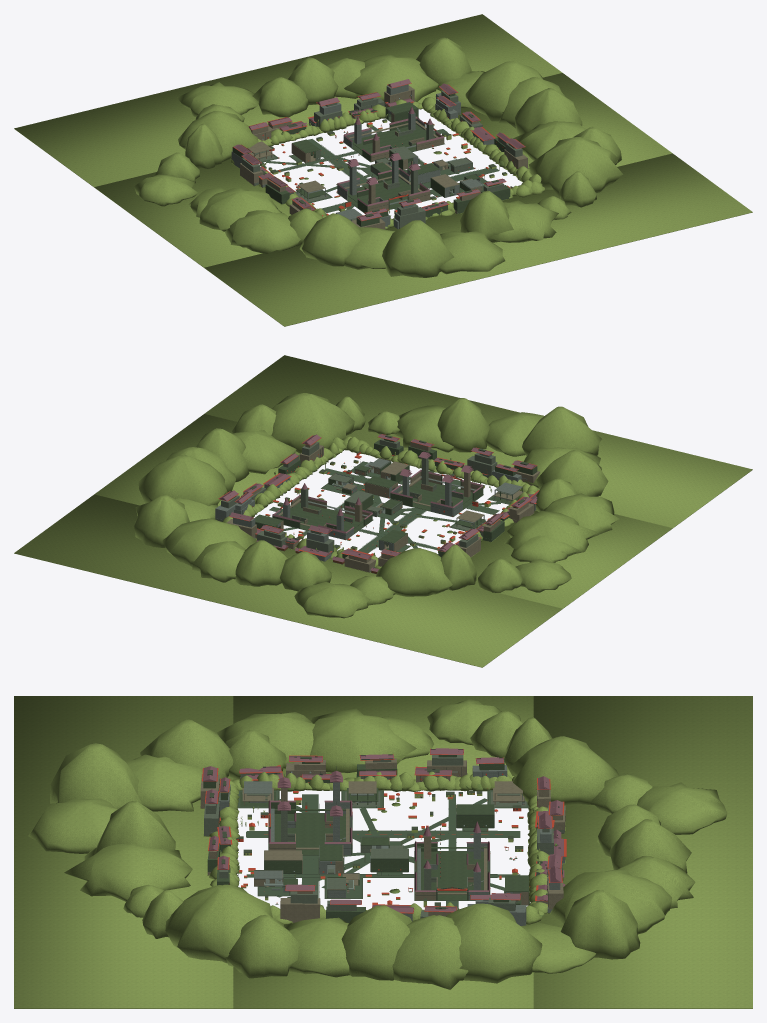
File: chikurin-lod0.glb
3 views of the same model, one above another, from view 1: azimuth 30°, elevation 25°; view 2: azimuth 150°, elevation 25°; view 3: azimuth 270°, elevation 25° (orthographic). The views are drawn at different scales.
Visible parts, largest first — view 1: HB_chikurin_LOD0_terrain, HB_chikurin_LOD0_wall_warm, HB_chikurin_LOD0_wall_weathered, HB_chikurin_LOD0_wall, HB_chikurin_LOD0_roof, HB_chikurin_LOD0_wall_cool, HB_chikurin_LOD0_road, HB_chikurin_LOD0_accent, HB_chikurin_LOD0_LANDMARK_1_wall_weathered, HB_chikurin_LOD0_LANDMARK_0_wall_weathered, HB_chikurin_LOD0_wall_alt, HB_chikurin_LOD0_LANDMARK_0_wall_warm (+5 smaller); view 2: HB_chikurin_LOD0_terrain, HB_chikurin_LOD0_wall_warm, HB_chikurin_LOD0_wall_weathered, HB_chikurin_LOD0_wall, HB_chikurin_LOD0_roof, HB_chikurin_LOD0_road, HB_chikurin_LOD0_wall_cool, HB_chikurin_LOD0_accent, HB_chikurin_LOD0_LANDMARK_1_wall_weathered, HB_chikurin_LOD0_LANDMARK_0_wall_weathered, HB_chikurin_LOD0_wall_alt, HB_chikurin_LOD0_LANDMARK_0_wall_cool (+3 smaller); view 3: HB_chikurin_LOD0_terrain, HB_chikurin_LOD0_wall_warm, HB_chikurin_LOD0_wall_weathered, HB_chikurin_LOD0_road, HB_chikurin_LOD0_roof, HB_chikurin_LOD0_wall, HB_chikurin_LOD0_wall_cool, HB_chikurin_LOD0_accent, HB_chikurin_LOD0_LANDMARK_1_wall_weathered, HB_chikurin_LOD0_wall_alt, HB_chikurin_LOD0_LANDMARK_0_wall_weathered, HB_chikurin_LOD0_LANDMARK_0_roof (+7 smaller).
Part boxes in pixels (box(x1,y1,x2,y2)): HB_chikurin_LOD0_terrain: box(14, 14, 752, 326); HB_chikurin_LOD0_wall_warm: box(240, 85, 527, 229); HB_chikurin_LOD0_wall_weathered: box(232, 92, 510, 226); HB_chikurin_LOD0_wall: box(242, 90, 522, 228); HB_chikurin_LOD0_roof: box(234, 79, 524, 220); HB_chikurin_LOD0_wall_cool: box(231, 84, 494, 229); HB_chikurin_LOD0_road: box(261, 119, 499, 213); HB_chikurin_LOD0_accent: box(233, 83, 525, 221); HB_chikurin_LOD0_LANDMARK_1_wall_weathered: box(352, 118, 435, 161); HB_chikurin_LOD0_LANDMARK_0_wall_weathered: box(347, 169, 418, 212); HB_chikurin_LOD0_wall_alt: box(260, 111, 512, 217); HB_chikurin_LOD0_LANDMARK_0_wall_warm: box(344, 174, 430, 211); HB_chikurin_LOD0_terrain: box(14, 355, 752, 667); HB_chikurin_LOD0_wall_warm: box(226, 440, 539, 572); HB_chikurin_LOD0_wall_weathered: box(229, 439, 537, 558); HB_chikurin_LOD0_wall: box(215, 438, 536, 572); HB_chikurin_LOD0_roof: box(219, 434, 538, 571); HB_chikurin_LOD0_road: box(269, 462, 509, 553); HB_chikurin_LOD0_wall_cool: box(215, 453, 522, 561); HB_chikurin_LOD0_accent: box(218, 434, 539, 559); HB_chikurin_LOD0_LANDMARK_1_wall_weathered: box(272, 502, 372, 532); HB_chikurin_LOD0_LANDMARK_0_wall_weathered: box(390, 480, 483, 510); HB_chikurin_LOD0_wall_alt: box(250, 435, 530, 573); HB_chikurin_LOD0_LANDMARK_0_wall_cool: box(393, 476, 475, 516); HB_chikurin_LOD0_terrain: box(14, 696, 752, 1008); HB_chikurin_LOD0_wall_warm: box(200, 758, 565, 922); HB_chikurin_LOD0_wall_weathered: box(203, 755, 552, 922); HB_chikurin_LOD0_road: box(238, 790, 528, 908); HB_chikurin_LOD0_roof: box(203, 748, 565, 912); HB_chikurin_LOD0_wall: box(204, 755, 564, 925); HB_chikurin_LOD0_wall_cool: box(219, 765, 565, 925); HB_chikurin_LOD0_accent: box(202, 748, 566, 913); HB_chikurin_LOD0_LANDMARK_1_wall_weathered: box(416, 843, 489, 900); HB_chikurin_LOD0_wall_alt: box(207, 756, 563, 909); HB_chikurin_LOD0_LANDMARK_0_wall_weathered: box(270, 802, 351, 855); HB_chikurin_LOD0_LANDMARK_0_roof: box(268, 771, 352, 843).
Bounding box in the file's own units: 708 × 63.78 × 708.
15 materials, 13 textured.
